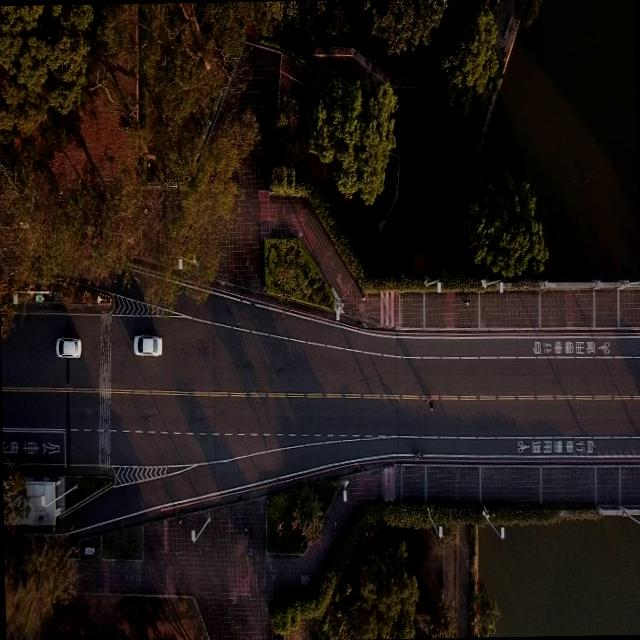car: (132, 332, 162, 356), (54, 336, 82, 358)
